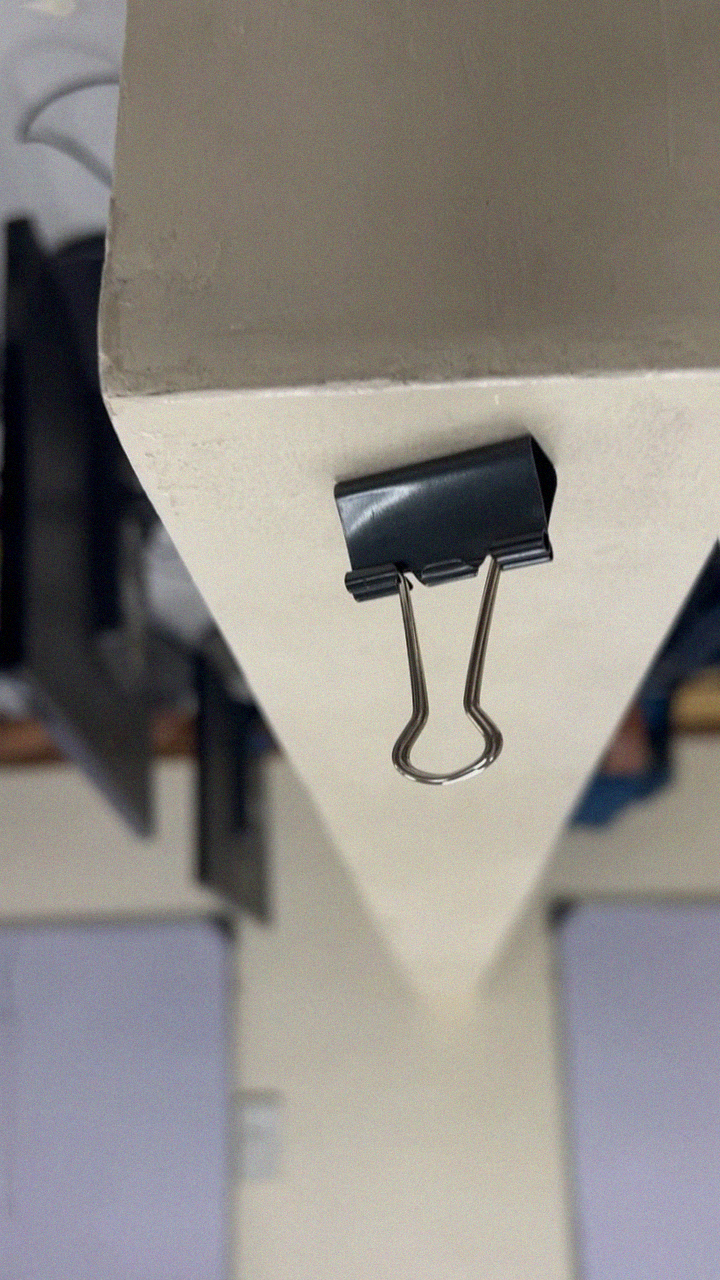kep_giay: (329, 437, 569, 791)
